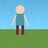person: (12, 5, 28, 34)
